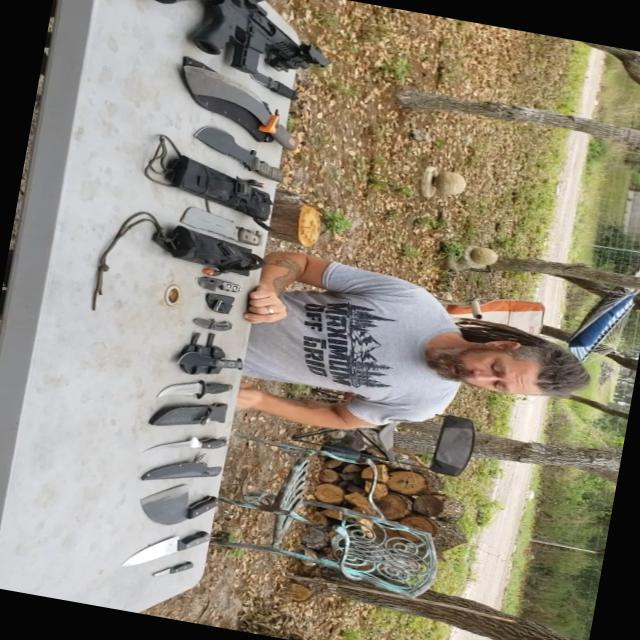knife: (150, 56, 332, 166), (180, 120, 296, 194), (120, 516, 224, 589), (173, 202, 285, 262), (128, 468, 234, 530), (126, 416, 237, 471), (138, 362, 248, 416), (147, 337, 261, 387), (250, 72, 336, 118), (136, 550, 210, 596), (181, 272, 262, 307), (185, 311, 248, 339)
long weapon: (73, 0, 374, 96)
